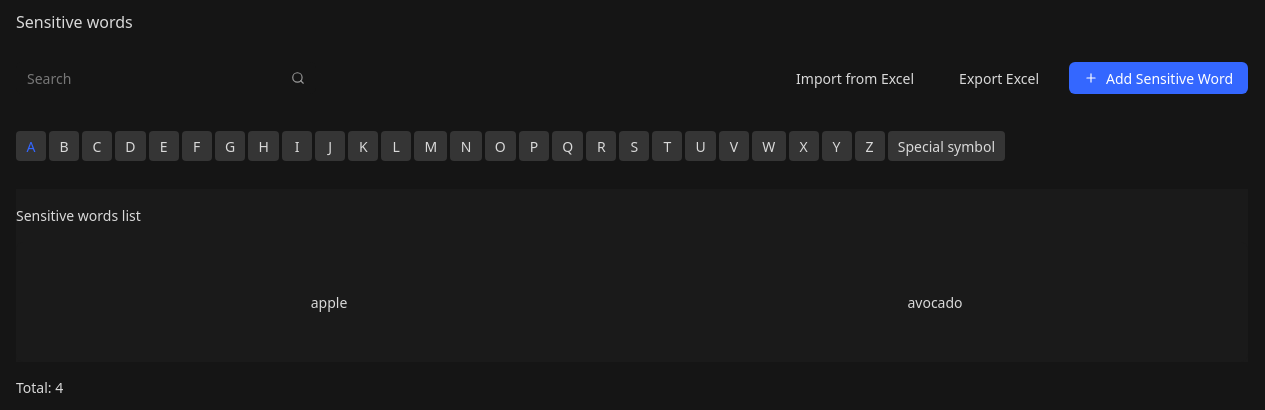
Test: SensitiveWordsPage › shows Edit and Delete on a word card while focus is inside it
Expected: the button "Edit" is not shown
Focus the list item "apple": (329, 302) top-left (311, 292), bottom-right (347, 312)
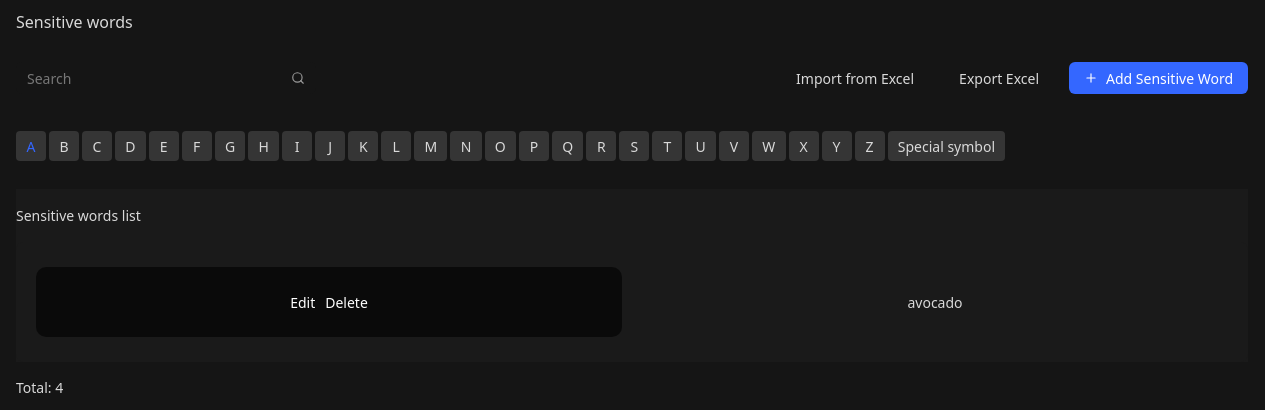
Expected: the button "Delete" is shown, top-left (325, 292), bottom-right (368, 312)
# Focus moving from the card onto its own button keeps the overlay.
Leave the list item with aria-label "apple", box top-left (36, 267), bottom-right (622, 337)
Expected: the button "Edit" is shown, top-left (290, 292), bottom-right (315, 312)
Leave the list item with aria-label "apple", box top-left (36, 267), bottom-right (622, 337)
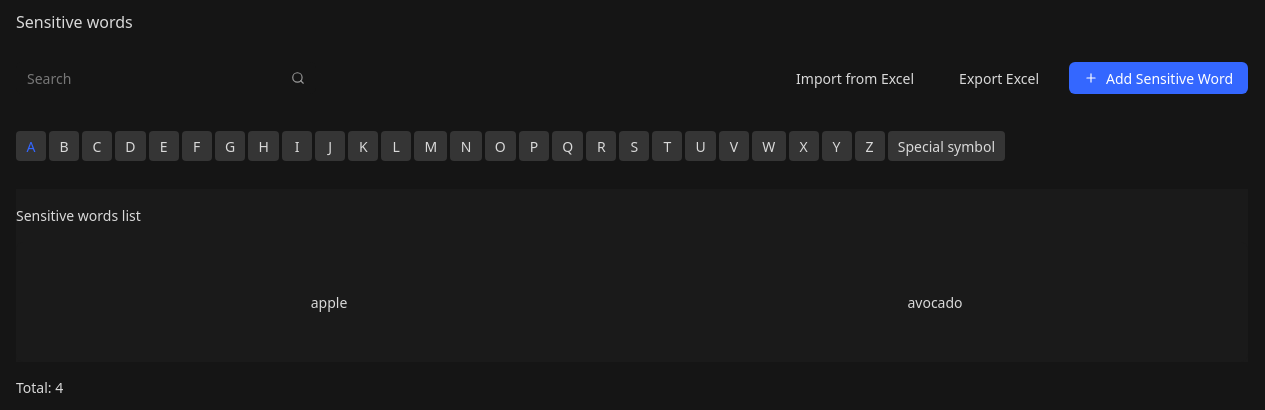
Expected: the button "Edit" is gone
